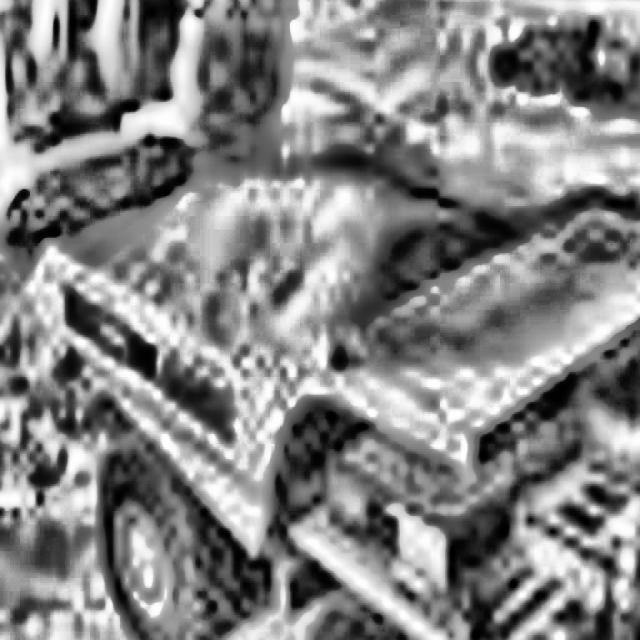dump_truck: (16, 125, 640, 640)
